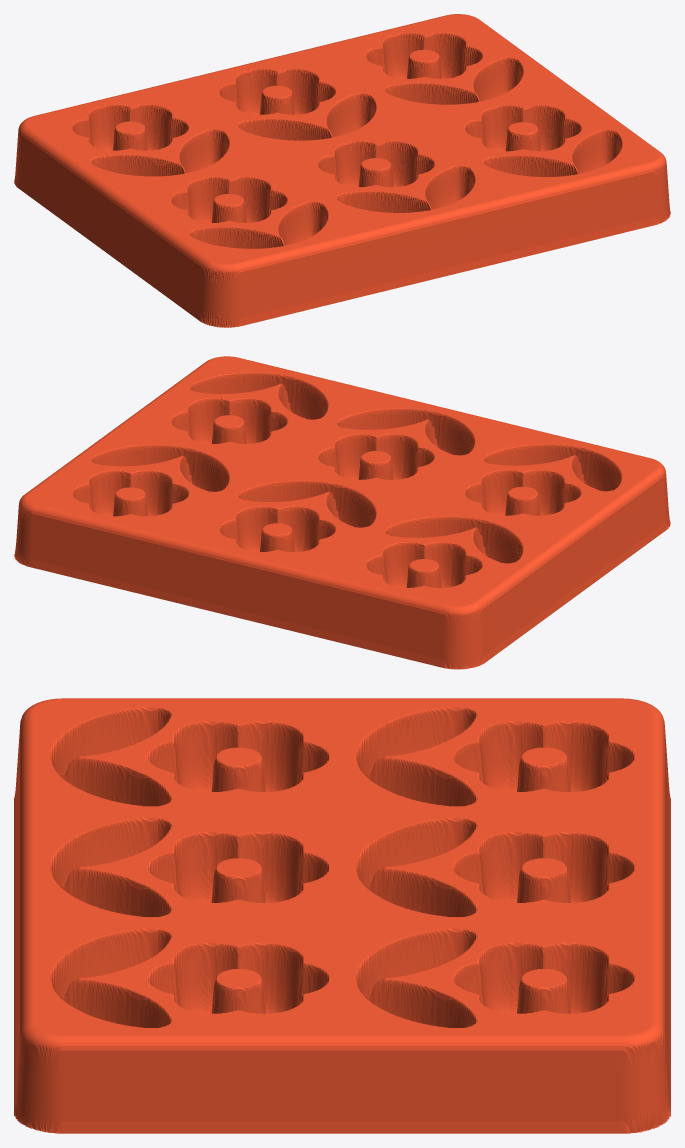
File: mold.glb
3 renders of one model, top to bottom at view 1: azimuth 30°, elevation 25°; view 2: azimuth 150°, elevation 25°; view 3: azimuth 270°, elevation 25°, orthographic. The views are drawn at different scales.
Parts seen in each view (by area): view 1: geometry_0; view 2: geometry_0; view 3: geometry_0.
Part boxes in pixels (left/top/right/bottom): geometry_0: left=14, top=14, right=670, bottom=327; geometry_0: left=14, top=356, right=670, bottom=669; geometry_0: left=14, top=698, right=670, bottom=1133.
Bounding box in the file's own units: 0.155 × 0.0185 × 0.1222.
